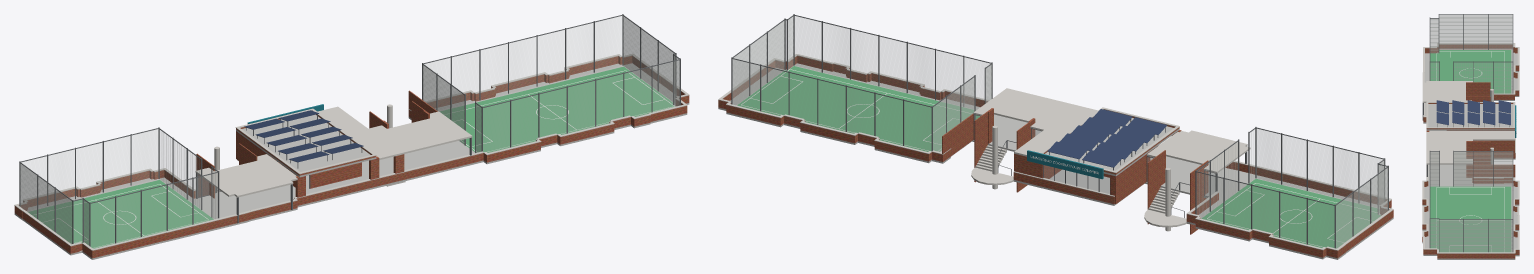
The model's file is floor-6.glb.
3 renders of one model, left to right at view 1: azimuth 30°, elevation 25°; view 2: azimuth 150°, elevation 25°; view 3: azimuth 270°, elevation 25°, orthographic. The views are drawn at different scales.
Parts seen in each view (by area): view 1: P6_A_Canchas, P6_A_Floor_Slab, P6_A_Nucleo, P6_A_Escaleras_Acceso; view 2: P6_A_Canchas, P6_A_Floor_Slab, P6_A_Nucleo, P6_A_Escaleras_Acceso; view 3: P6_A_Canchas, P6_A_Nucleo, P6_A_Floor_Slab, P6_A_Escaleras_Acceso.
Part boxes in pixels (bbox=[...]): P6_A_Canchas: bbox=[19, 14, 680, 251]; P6_A_Floor_Slab: bbox=[14, 54, 689, 259]; P6_A_Nucleo: bbox=[195, 90, 472, 223]; P6_A_Escaleras_Acceso: bbox=[195, 101, 429, 198]; P6_A_Canchas: bbox=[731, 14, 1388, 248]; P6_A_Floor_Slab: bbox=[718, 54, 1393, 259]; P6_A_Nucleo: bbox=[942, 88, 1250, 203]; P6_A_Escaleras_Acceso: bbox=[971, 108, 1208, 234]; P6_A_Canchas: bbox=[1429, 14, 1513, 252]; P6_A_Nucleo: bbox=[1422, 81, 1516, 182]; P6_A_Floor_Slab: bbox=[1422, 43, 1519, 259]; P6_A_Escaleras_Acceso: bbox=[1466, 82, 1493, 177].
Size of the model in its own units: 77.13 by 9.84 by 15.13.
12 materials, 2 textured.
